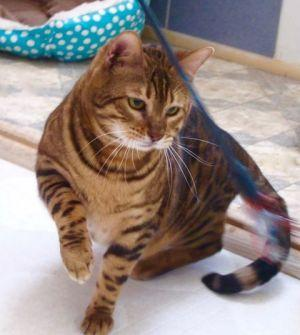bengal: (81, 21, 216, 157)
